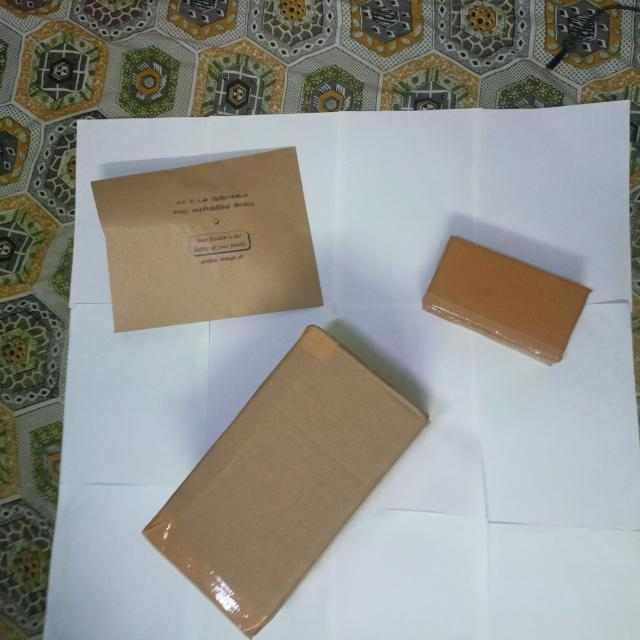box: (139, 327, 430, 640), (92, 150, 325, 333), (422, 233, 594, 370)
